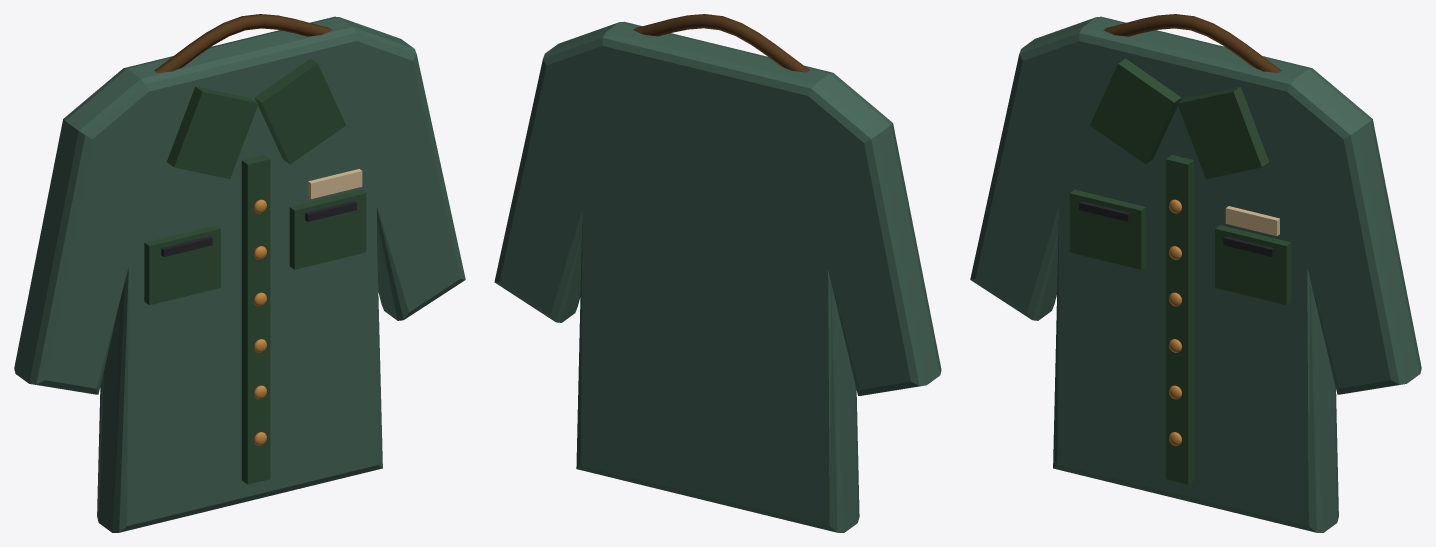
Rendered from mia-uniform.glb.
The picture shows the model from 3 angles, left to right: view 1: azimuth 30°, elevation 25°; view 2: azimuth 150°, elevation 25°; view 3: azimuth 330°, elevation 25°; orthographic projection.
Parts seen in each view (by area): view 1: Body_sage, Body_cactus-shadow, Body_wood, Body_iron, Body_ivory, Body_brass; view 2: Body_sage, Body_wood; view 3: Body_sage, Body_cactus-shadow, Body_wood, Body_iron, Body_ivory, Body_brass.
Part boxes in pixels (x1,y1,x2,y2): Body_sage: (14,16,465,532); Body_cactus-shadow: (144,58,366,484); Body_wood: (154,14,332,72); Body_iron: (161,201,356,256); Body_ivory: (308,169,362,198); Body_brass: (254,199,266,445); Body_sage: (494,21,941,532); Body_wood: (633,14,809,72); Body_sage: (970,16,1421,532); Body_cactus-shadow: (1069,58,1291,484); Body_wood: (1103,14,1281,72); Body_iron: (1079,201,1274,256); Body_ivory: (1225,206,1279,236); Body_brass: (1169,199,1181,445).
Size of the model in its own units: 0.7547 by 0.7955 by 0.106.
